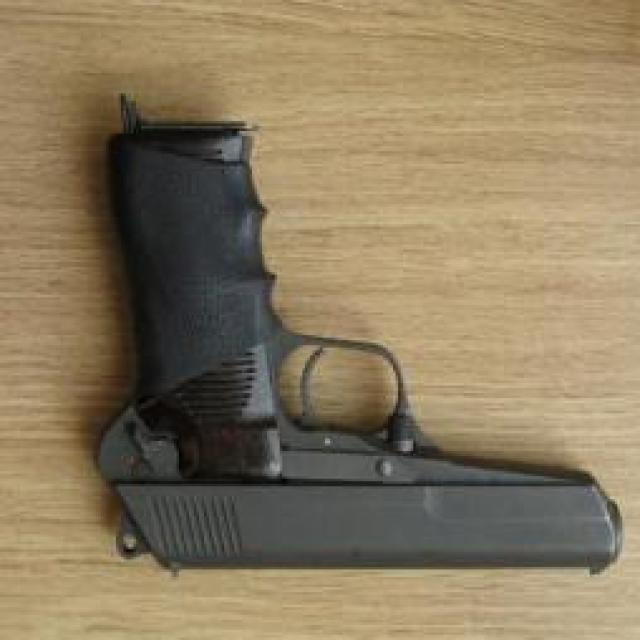pistol: (92, 125, 627, 580)
